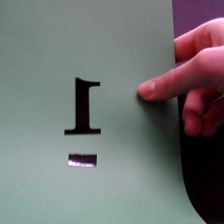green1: (53, 72, 117, 171)
